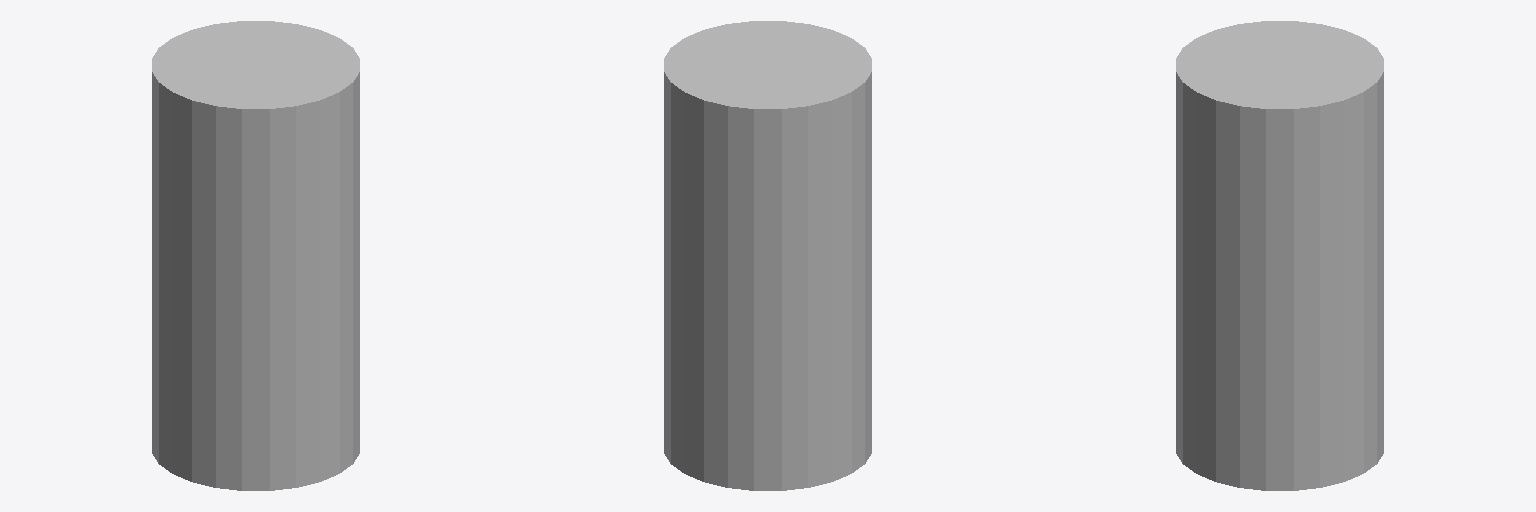
Rendered from S1TL3Collider.obj.
3 views of the same model, side by side, from view 1: azimuth 30°, elevation 25°; view 2: azimuth 150°, elevation 25°; view 3: azimuth 270°, elevation 25° (orthographic).
Visible parts, largest first — view 1: S1TL3Collider; view 2: S1TL3Collider; view 3: S1TL3Collider.
Boxes of the visible parts, x1,y1,x2,y2 form: S1TL3Collider: [152, 21, 359, 490]; S1TL3Collider: [664, 21, 871, 490]; S1TL3Collider: [1176, 21, 1383, 490].
Bounding box in the file's own units: 1.24 × 2.5 × 1.24.